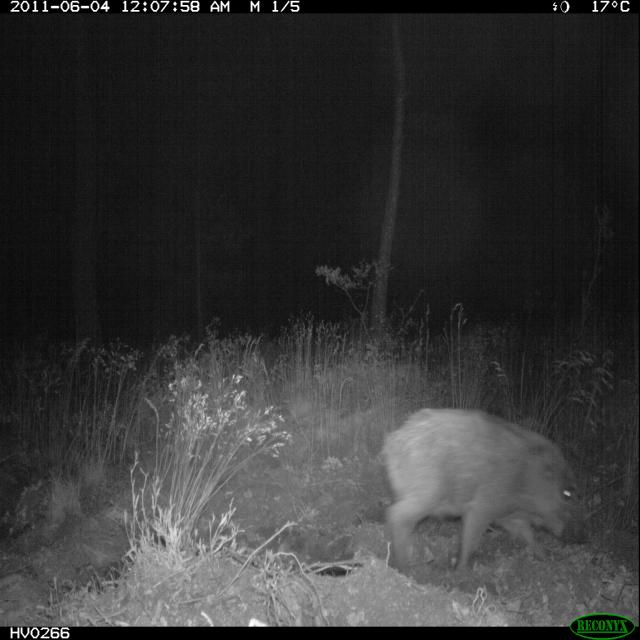boar: (359, 396, 596, 594)
